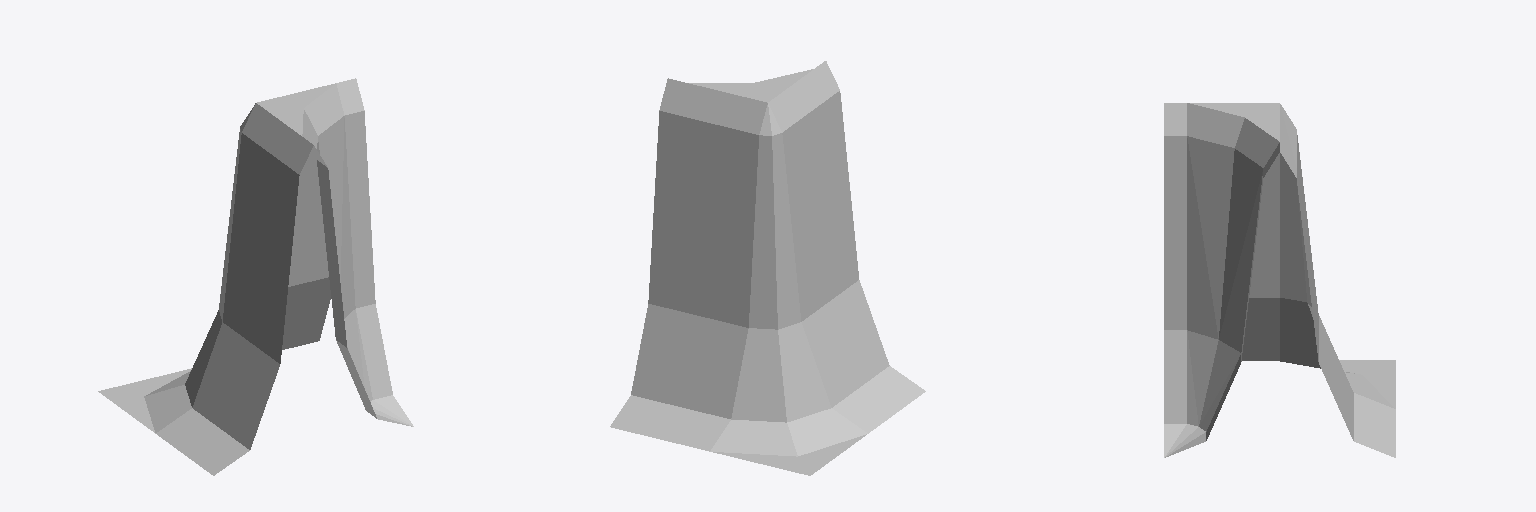
Rendered from wall_05.obj.
3 renders of one model, left to right at view 1: azimuth 30°, elevation 25°; view 2: azimuth 150°, elevation 25°; view 3: azimuth 270°, elevation 25°, orthographic.
Visible parts, largest first — view 1: wall_05_Cave_Wall_Inner.009; view 2: wall_05_Cave_Wall_Inner.009; view 3: wall_05_Cave_Wall_Inner.009.
Part boxes in pixels (left/top/right/bottom): wall_05_Cave_Wall_Inner.009: left=98, top=78, right=413, bottom=475; wall_05_Cave_Wall_Inner.009: left=610, top=61, right=925, bottom=475; wall_05_Cave_Wall_Inner.009: left=1164, top=103, right=1395, bottom=457.
Size of the model in its own units: 1 by 1.46 by 1.